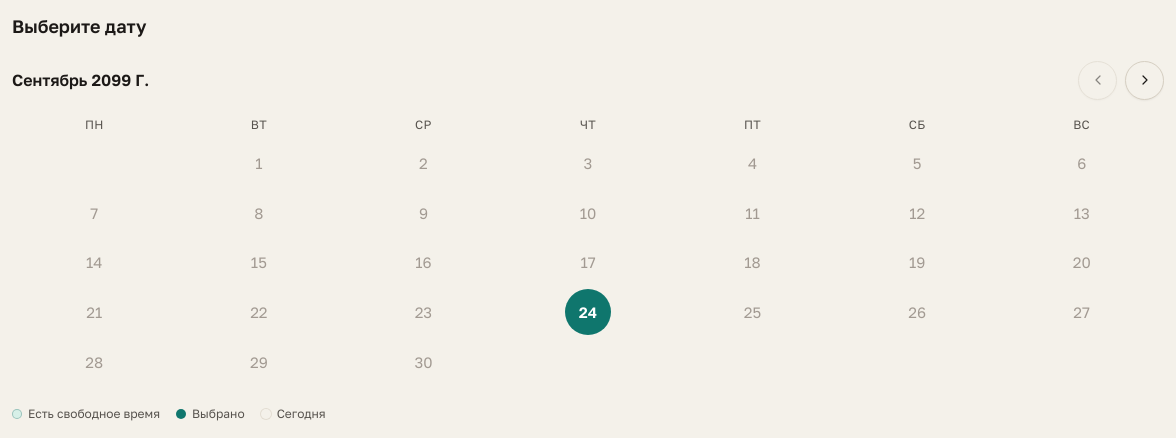
Test: MonthCalendar › переключает месяц кнопками навигации
Click the button named "Следующий месяц" at (1145, 80), box x1=1125 y1=61 x2=1164 y2=100
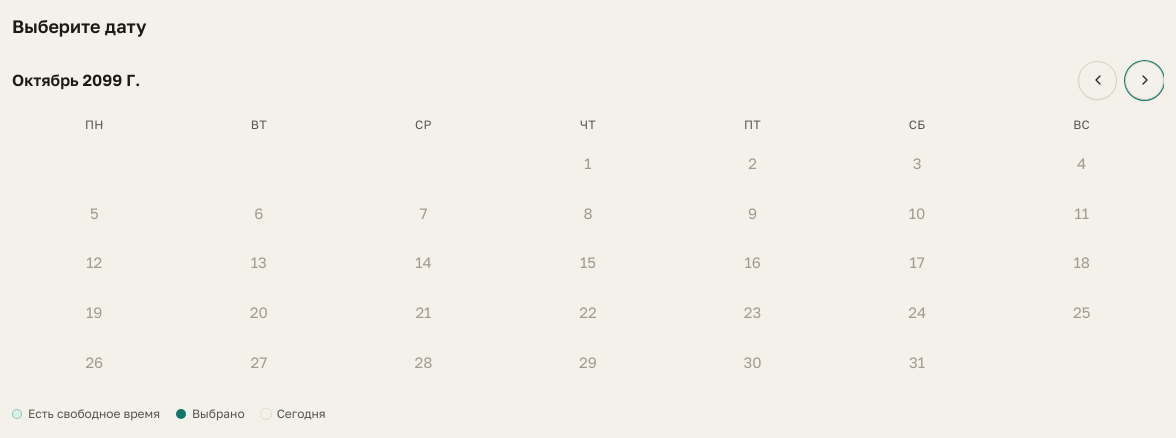
expect the button named "2099-10-01" is shown: met, box x1=565 y1=140 x2=611 y2=186
expect the button "2099-09-01" is gone: met
Click the button named "Предыдущий месяц" at (1098, 80), box x1=1078 y1=61 x2=1117 y2=100
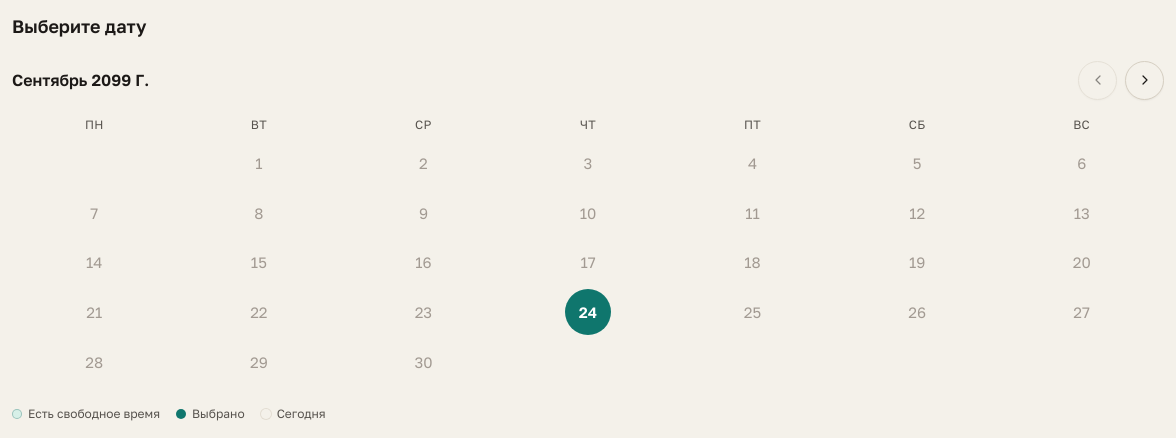
expect the button named "2099-09-01" is shown: met, box x1=236 y1=140 x2=282 y2=186
